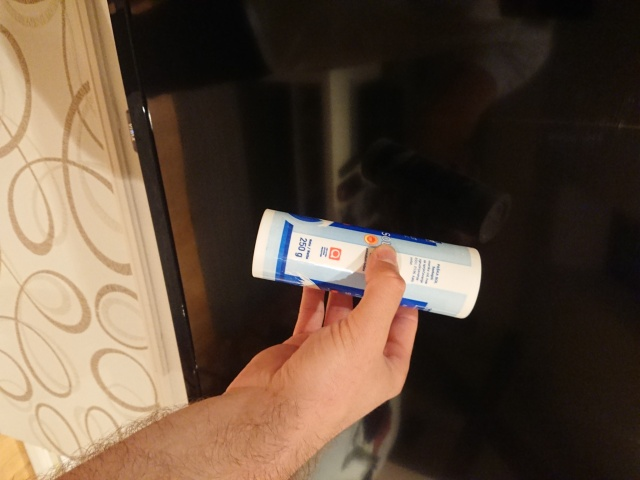Solana Pag Fine Sea Salt 250g: (246, 205, 487, 322)
